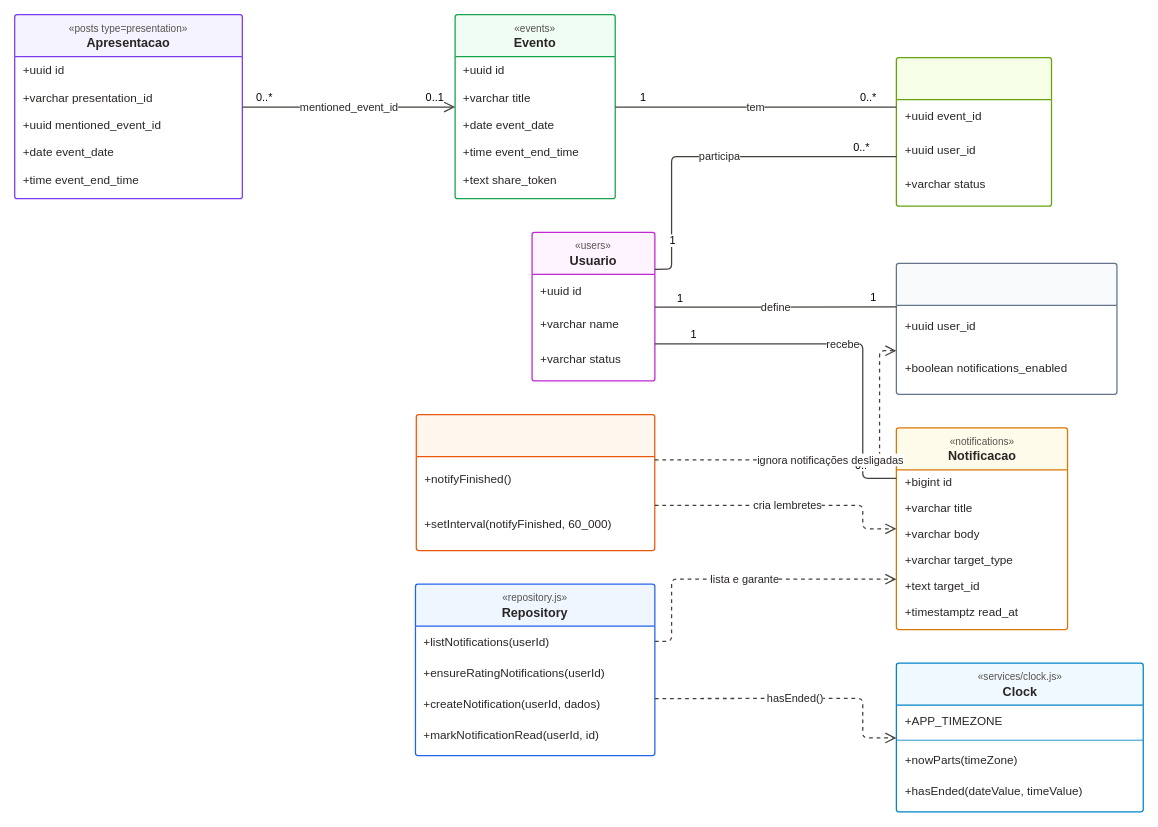
The diagram is 1158 pixels wide and 827 high, and some of its shapes have lost their labels. The box of each missing label's shape, as (x1, y1, x2, y2) in pixels:
«event_participants» Participacao: (895, 57, 1052, 206)
«server.js» Agendador: (415, 414, 655, 551)
«settings» Configuracao: (895, 262, 1117, 395)
